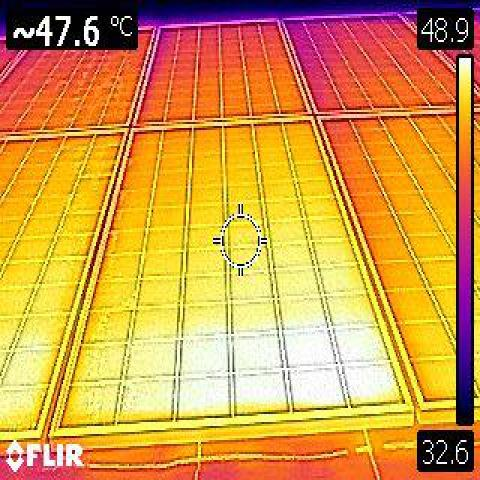fault: (179, 322, 395, 417)
